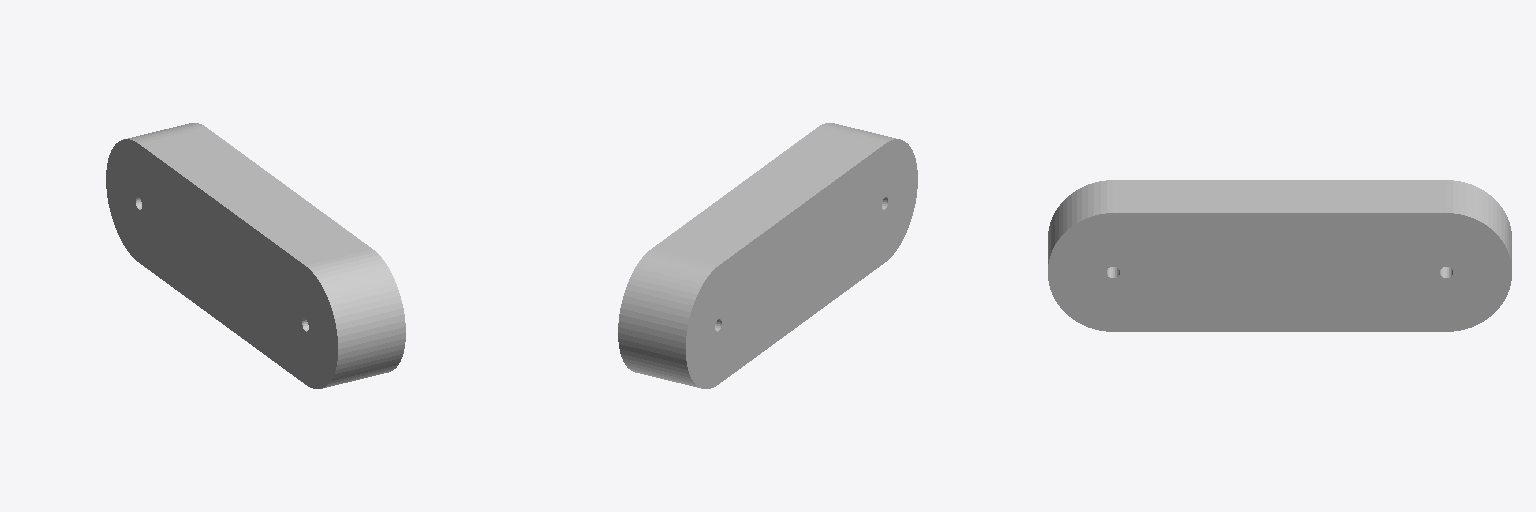
File: brazo_der_trasero.obj
The picture shows the model from 3 angles: view 1: azimuth 30°, elevation 25°; view 2: azimuth 150°, elevation 25°; view 3: azimuth 270°, elevation 25°; orthographic projection.
Parts seen in each view (by area): view 1: Object.1; view 2: Object.1; view 3: Object.1.
Part boxes in pixels (bbox=[...]): Object.1: bbox=[106, 123, 405, 388]; Object.1: bbox=[618, 123, 917, 388]; Object.1: bbox=[1048, 180, 1511, 331].
Size of the model in its own units: 75 by 126 by 446.